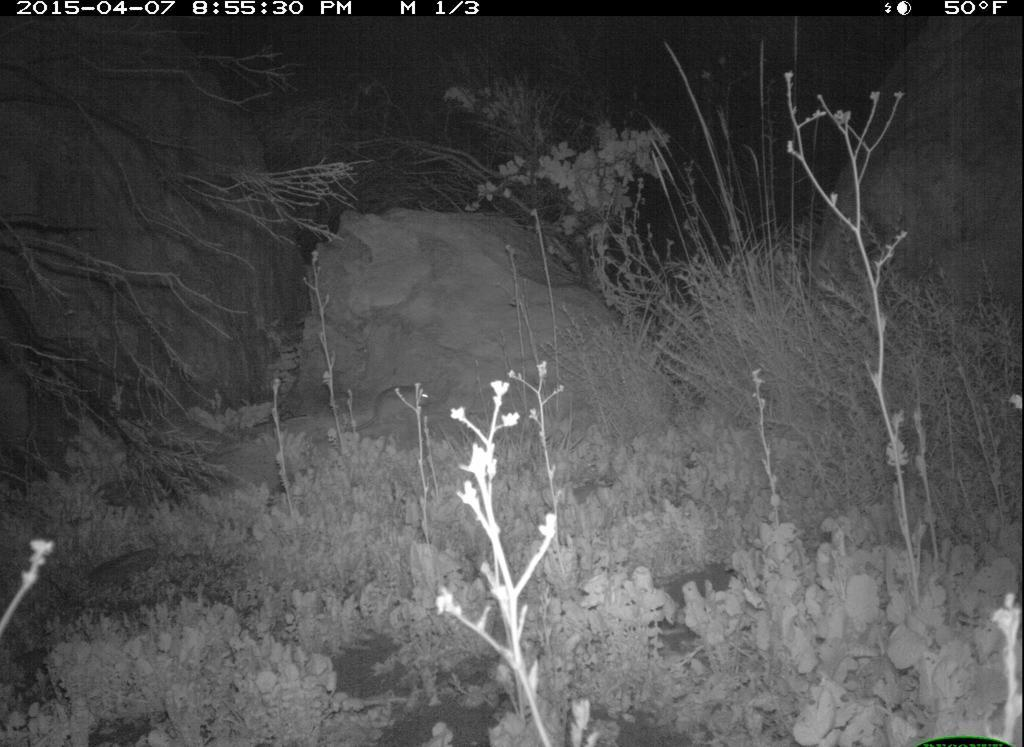rodent: (342, 382, 435, 442)
